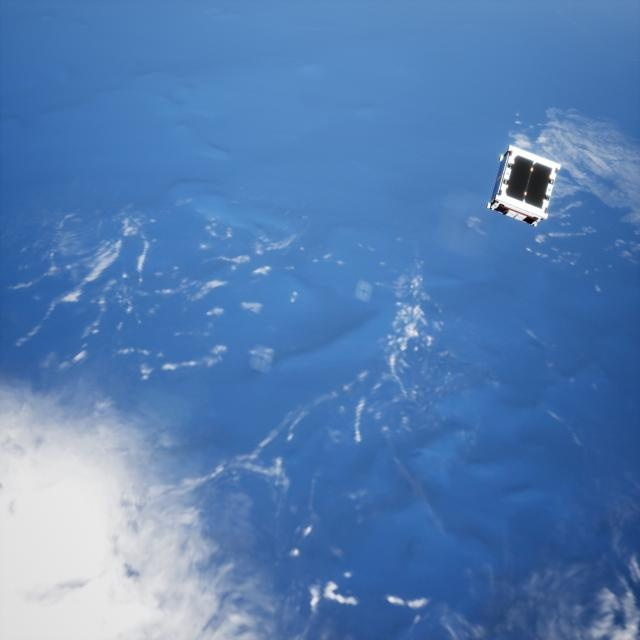satellite: (479, 141, 562, 228)
